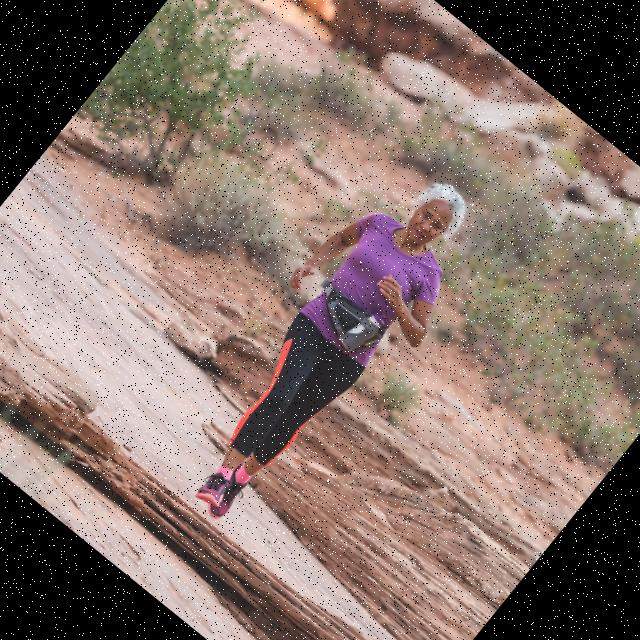Person: (142, 145, 510, 552)
